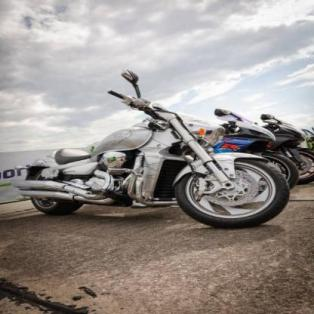Motocicleta: (17, 94, 288, 226)
